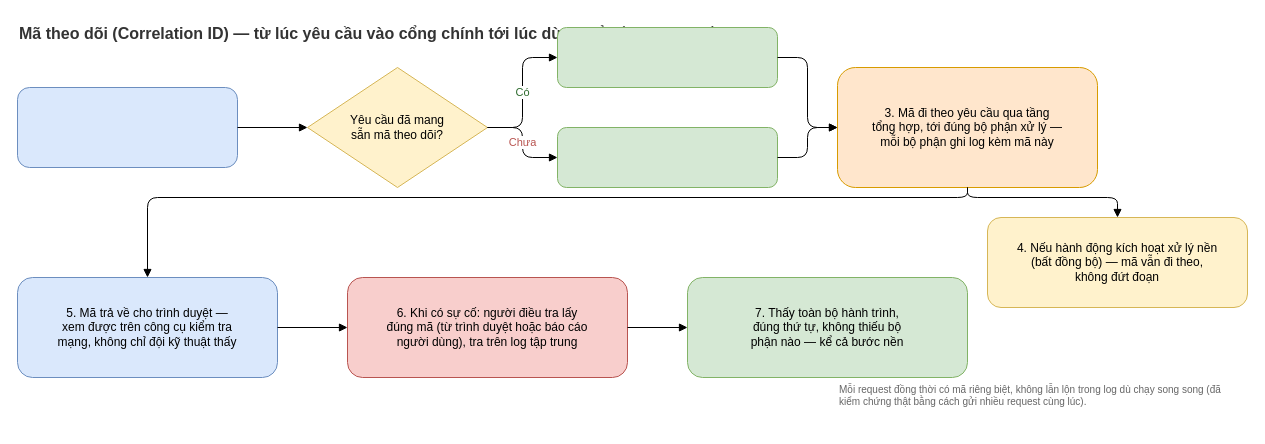
The diagram is 1265 pixels wide and 444 high, and some of its shapes have lost their labels. Each missing label, with the box of its shape:
1. Khách hàng thao tác (ví dụ: đặt đơn hàng): (16, 86, 238, 168)
2a. Giữ nguyên mã đã có: (556, 26, 778, 88)
2b. Cổng chính tự sinh mã mới: (556, 126, 778, 188)
